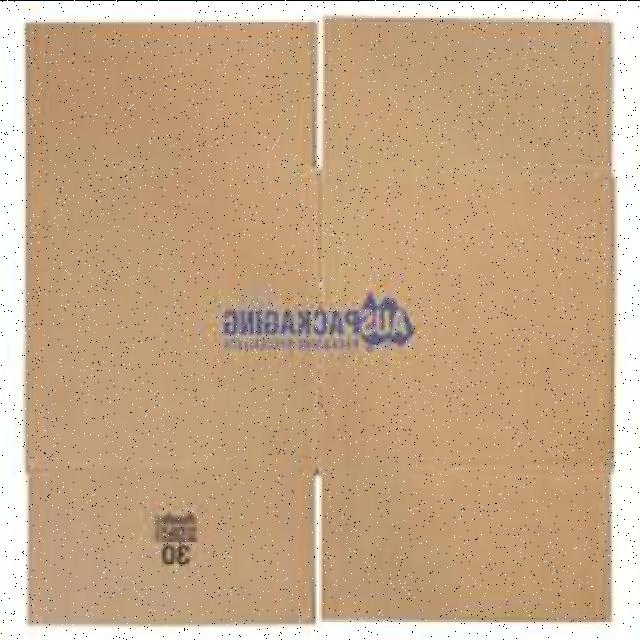normal: (28, 23, 314, 625)
